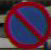No waiting: (4, 1, 48, 43)
